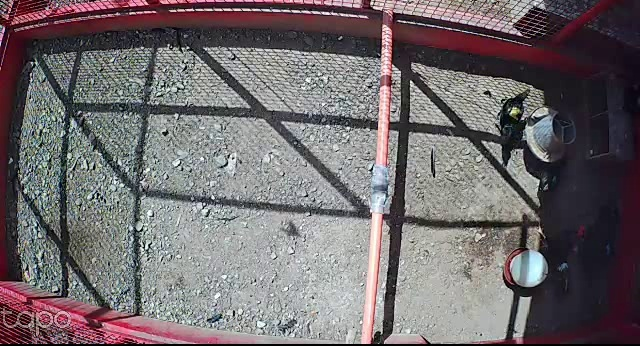Chicken: (497, 88, 531, 165), (535, 162, 569, 202)
Drinker: (502, 246, 546, 288)
Feeder: (526, 106, 578, 163)
Rooster: (533, 221, 587, 295)
Saddle_Color_Yellow: (509, 106, 523, 118)
